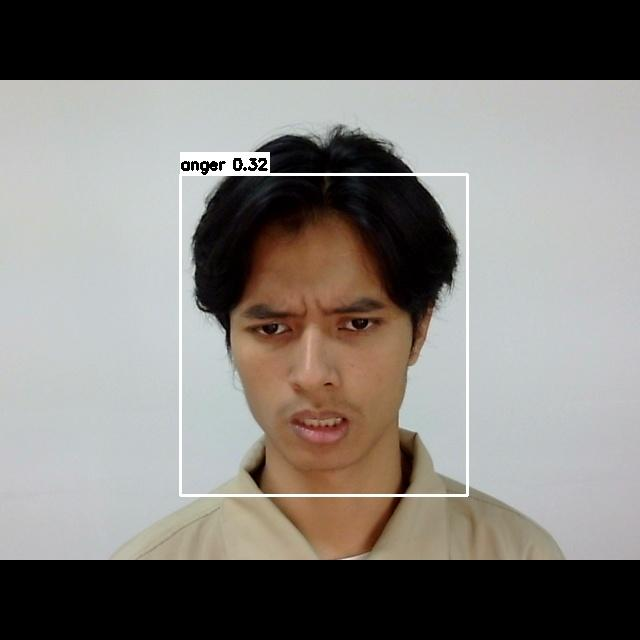Disgust: (221, 278, 404, 454)
